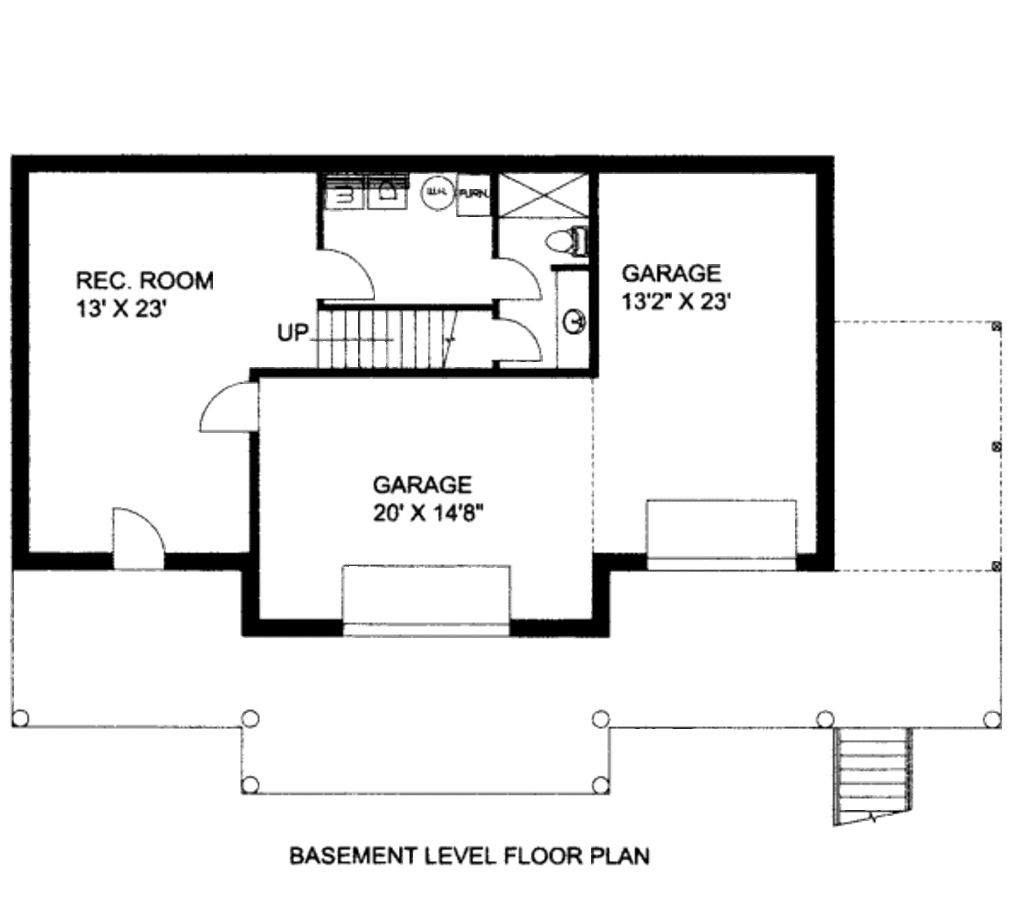door: (99, 499, 179, 574), (187, 378, 279, 433), (319, 243, 374, 305), (492, 310, 546, 371), (495, 250, 551, 303)
large_sink: (540, 225, 596, 265)
small_sink: (558, 265, 592, 372)
stairs: (309, 298, 498, 387), (833, 718, 920, 836)
